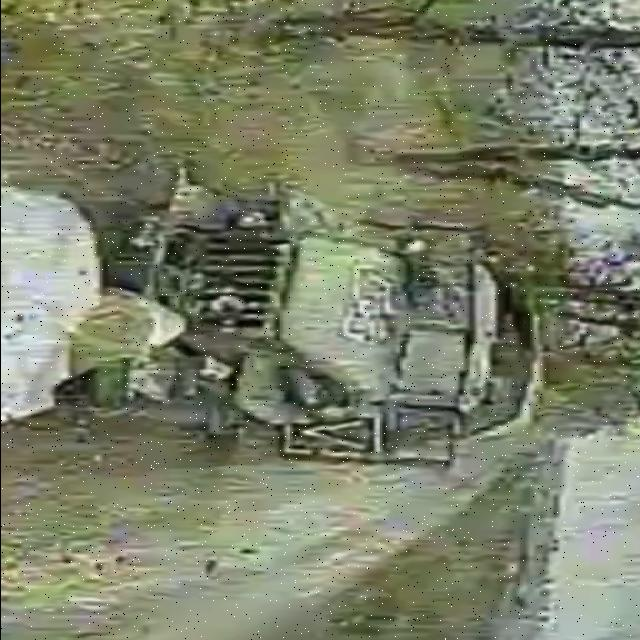TRUCK: (93, 175, 547, 460)
